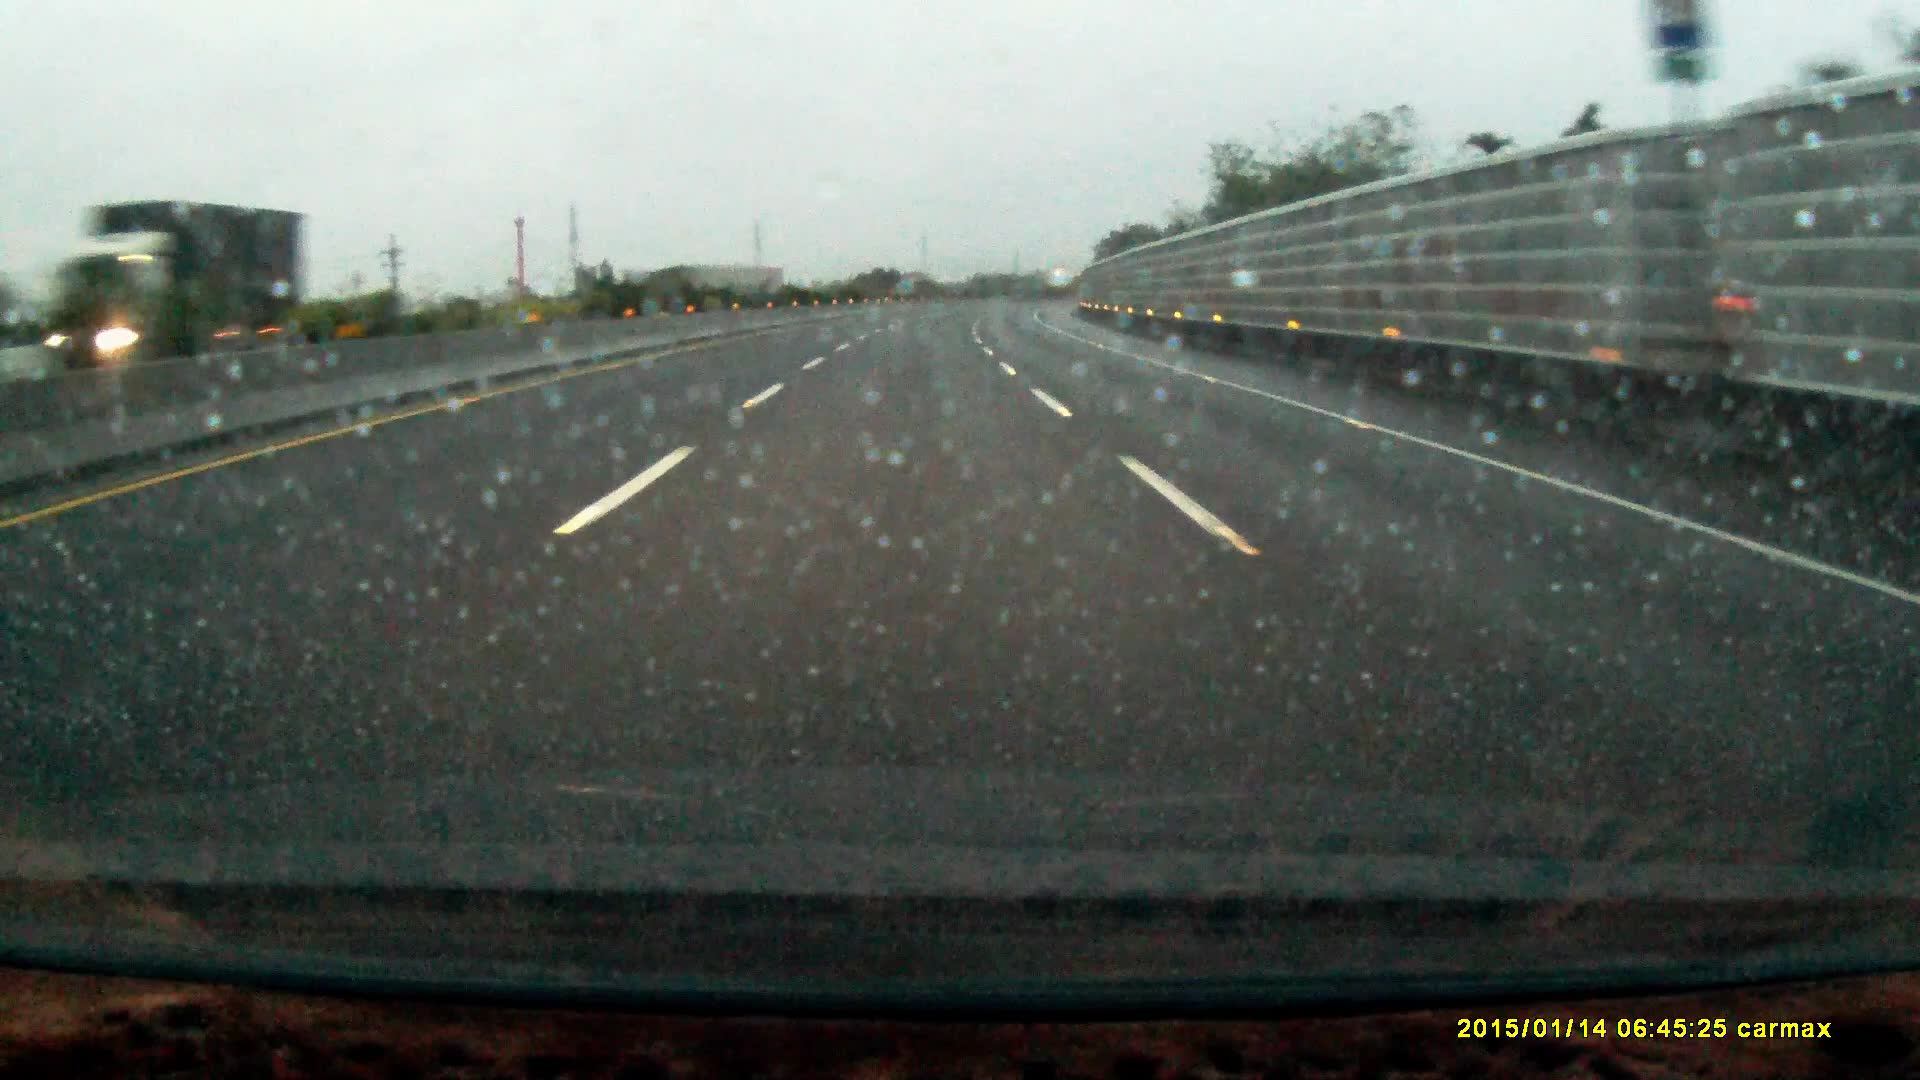vehicle: (69, 196, 298, 363)
